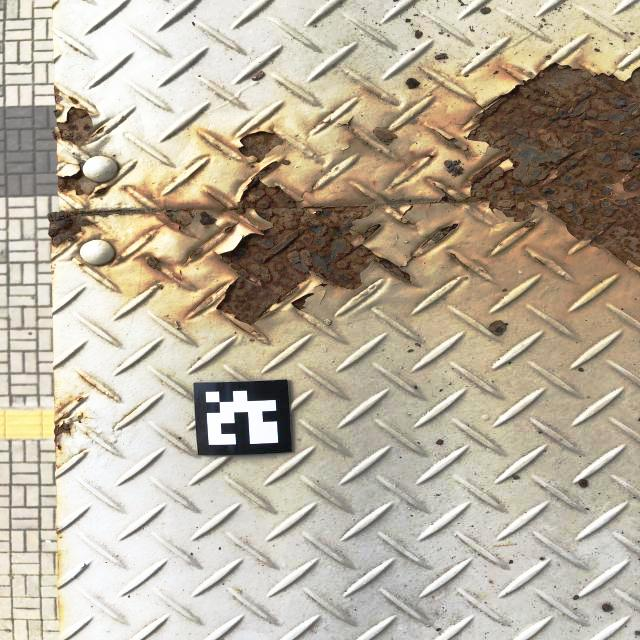Corrosion: (441, 63, 640, 262), (216, 160, 383, 339), (153, 188, 239, 236), (50, 83, 108, 149), (48, 209, 146, 248), (405, 219, 463, 262), (53, 396, 90, 454), (55, 162, 111, 197), (237, 130, 284, 168), (429, 127, 478, 157), (337, 116, 374, 152), (377, 255, 416, 286), (194, 283, 230, 308), (140, 253, 164, 276), (445, 251, 472, 270), (394, 204, 416, 225), (78, 371, 101, 388), (216, 222, 238, 236), (186, 245, 205, 260), (421, 153, 438, 163), (172, 269, 185, 282), (530, 254, 544, 266), (208, 142, 223, 149), (115, 254, 127, 262)
